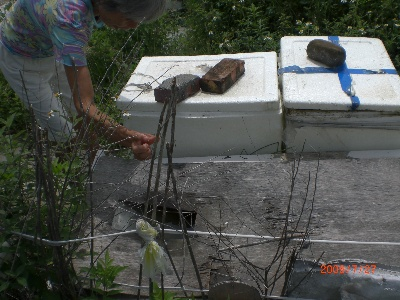styrofoam: (114, 51, 283, 157), (279, 36, 400, 152)
